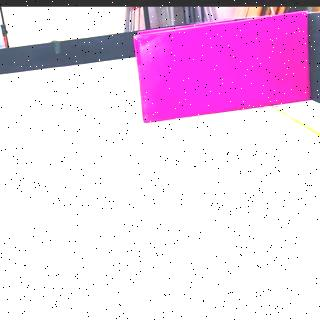xparking: (140, 34, 308, 112)
